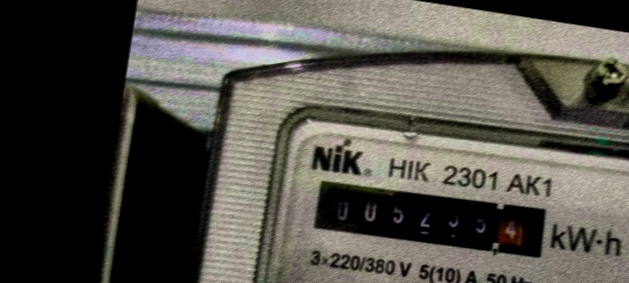0: (333, 194, 352, 221), (361, 196, 380, 222)
2: (416, 200, 436, 229)
3: (443, 202, 464, 229)
4: (500, 210, 522, 242)
5: (471, 205, 491, 235), (389, 197, 407, 224)
screen: (300, 162, 558, 270)
